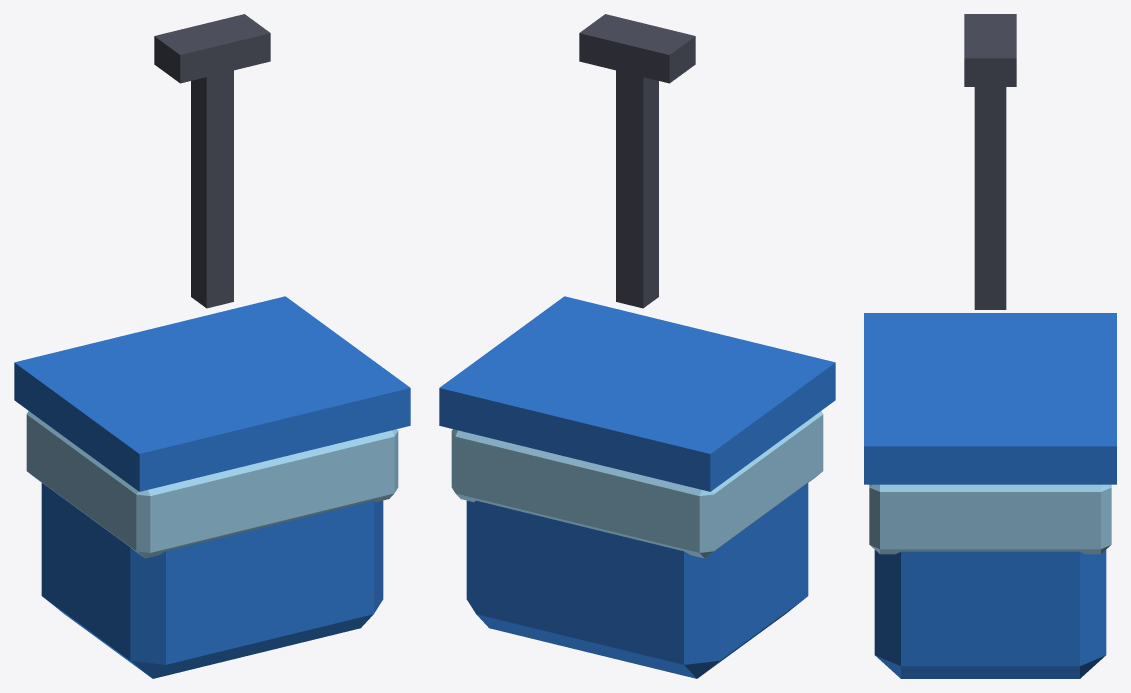
Rendered from sky-ride.cabin-2.glb.
3 renders of one model, left to right at view 1: azimuth 30°, elevation 25°; view 2: azimuth 150°, elevation 25°; view 3: azimuth 270°, elevation 25°, orthographic.
Visible parts, largest first — view 1: model; view 2: model; view 3: model.
Boxes of the visible parts, bbox=[...] form: model: bbox=[14, 14, 410, 678]; model: bbox=[439, 14, 835, 678]; model: bbox=[864, 14, 1116, 678].
Bounding box in the file's own units: 0.3 × 0.62 × 0.24.
1 material, 1 textured.
